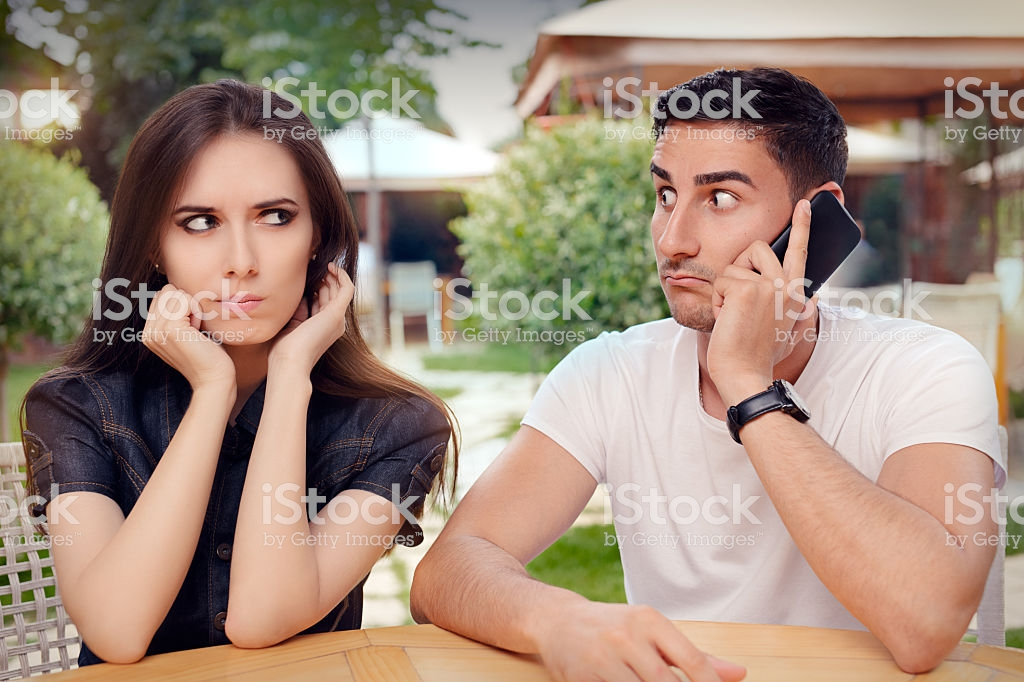phone: (711, 191, 832, 331)
talk: (645, 152, 861, 371)
